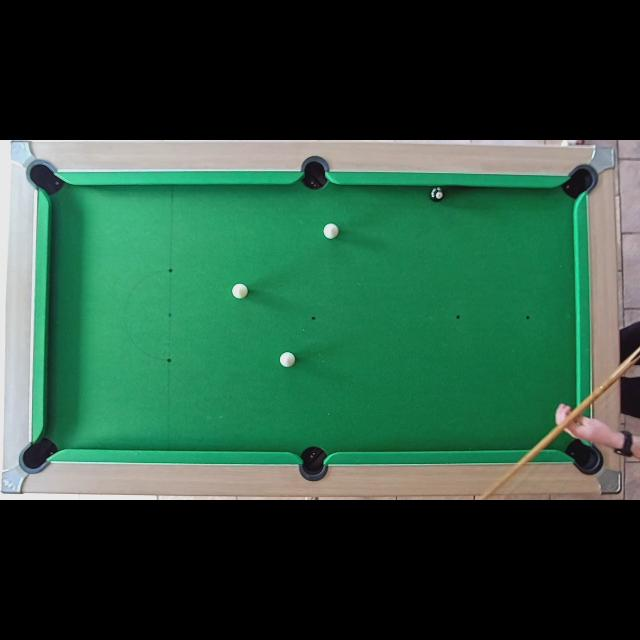Ball: (232, 283, 248, 299), (429, 186, 445, 202), (280, 352, 296, 366), (323, 224, 339, 238)
